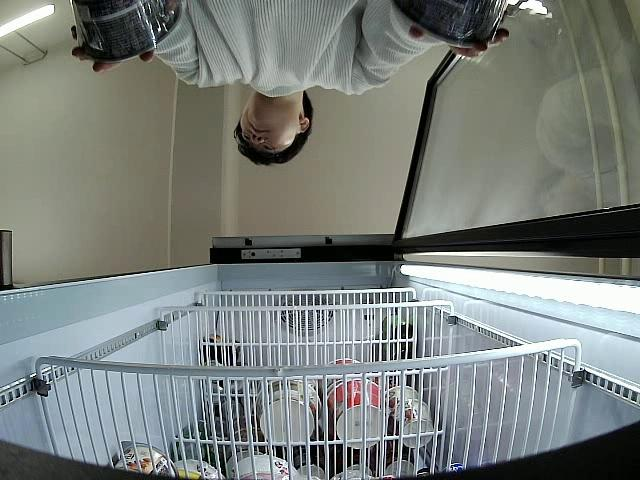00_hand: (71, 0, 185, 73), (409, 24, 511, 61)
07_buldak_L: (69, 0, 184, 61), (392, 0, 505, 51)
